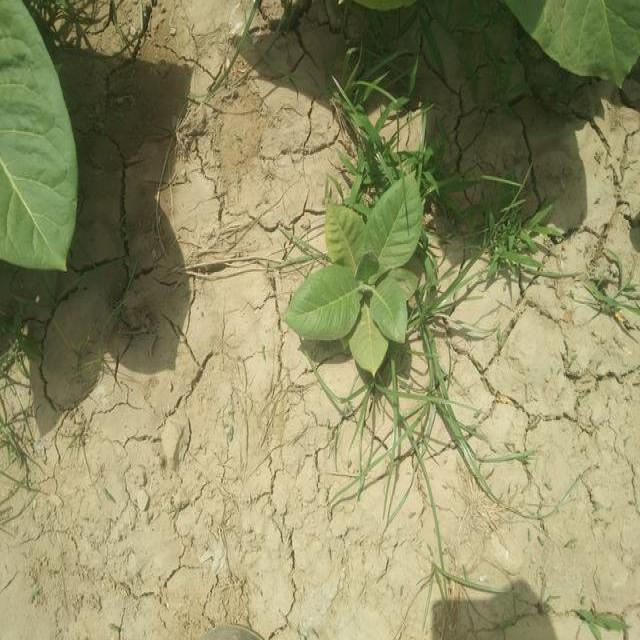crop: (314, 164, 438, 365), (4, 3, 94, 258), (539, 0, 639, 73)
